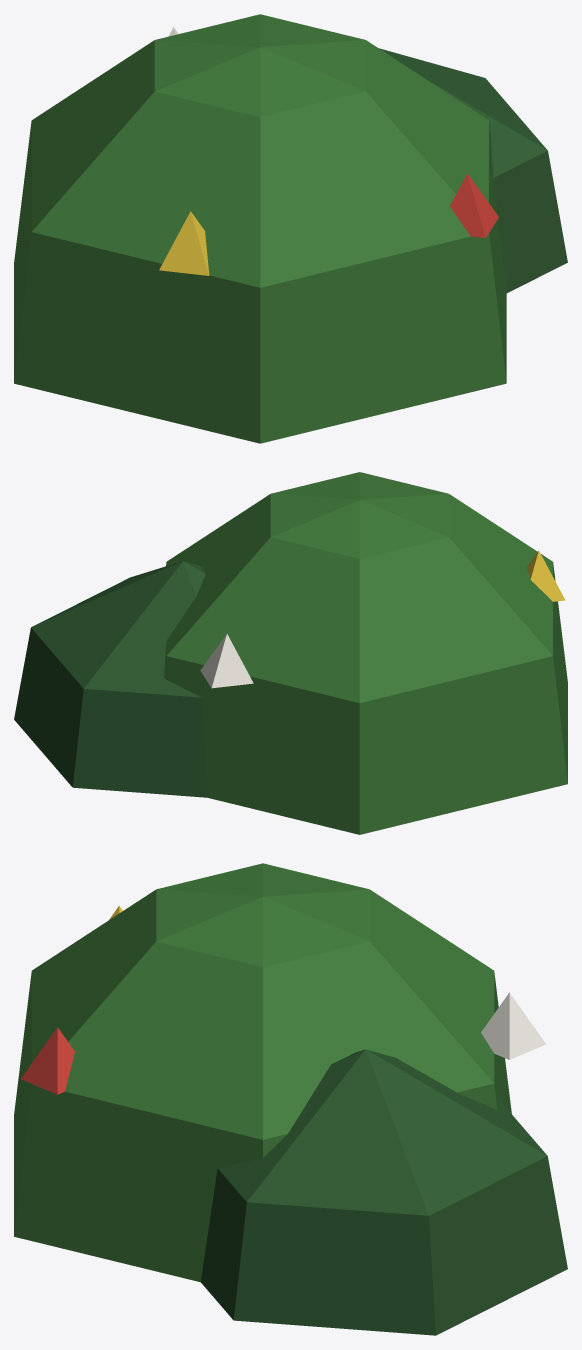
The model's file is bush.fbx.
3 views of the same model, one above another, from view 1: azimuth 30°, elevation 25°; view 2: azimuth 150°, elevation 25°; view 3: azimuth 270°, elevation 25° (orthographic). The views are drawn at different scales.
Parts seen in each view (by area): view 1: bush; view 2: bush; view 3: bush.
Part boxes in pixels (box(x1,y1,x2,y2)): bush: box(14, 14, 567, 443); bush: box(14, 472, 567, 834); bush: box(14, 863, 567, 1335).
Size of the model in its own units: 1.62 by 0.8 by 1.35.
